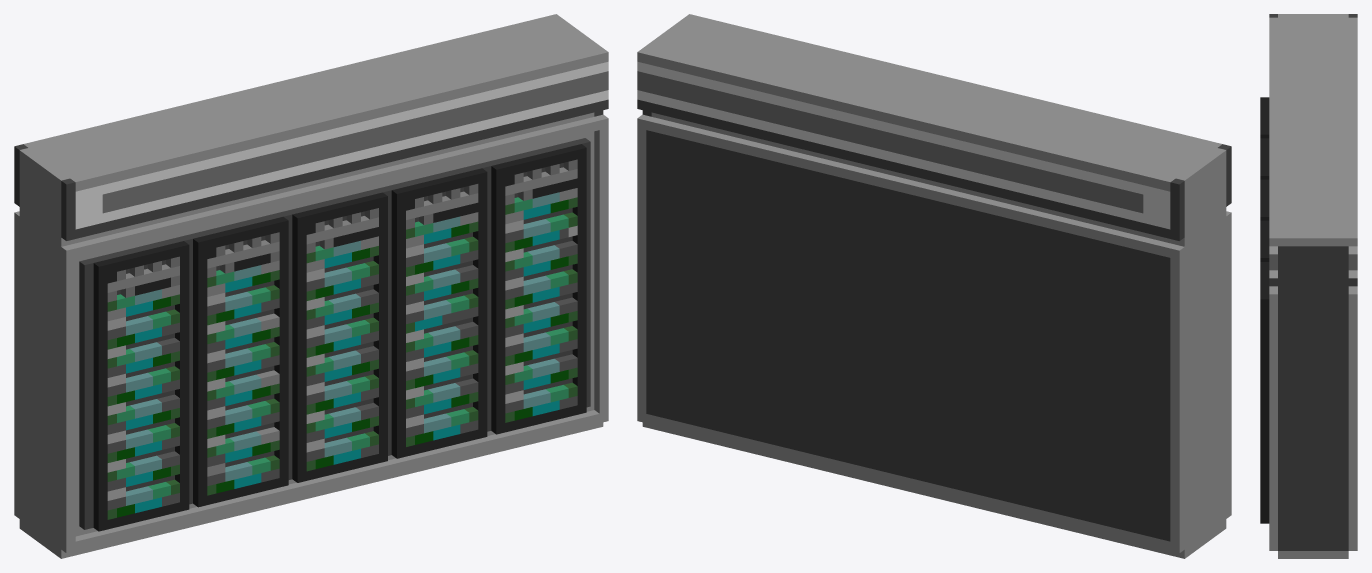
Rendered from Server Wall 2.obj.
3 renders of one model, left to right at view 1: azimuth 30°, elevation 25°; view 2: azimuth 150°, elevation 25°; view 3: azimuth 270°, elevation 25°, orthographic. The views are drawn at different scales.
Bounding box in the file's own units: 60 × 40 × 11.
1 material, 1 textured.
